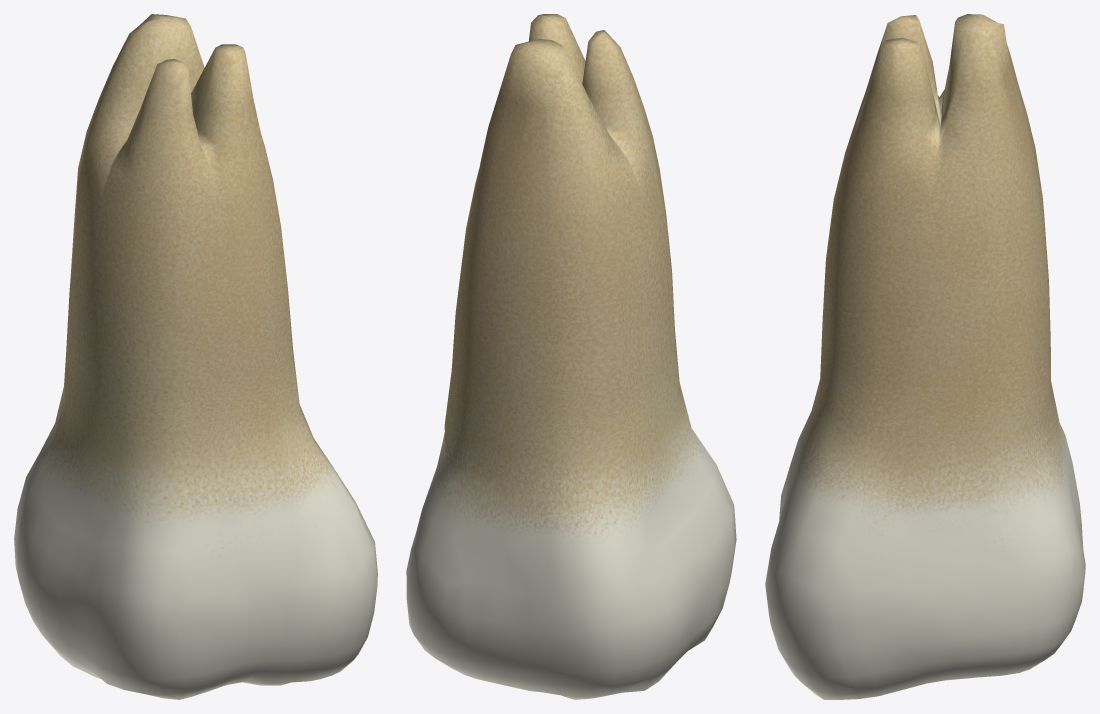
File: Human Teeth Upper Third Molar Wisdom.gltf
The picture shows the model from 3 angles, left to right: view 1: azimuth 30°, elevation 25°; view 2: azimuth 150°, elevation 25°; view 3: azimuth 270°, elevation 25°; orthographic projection.
Visible parts, largest first — view 1: Human_Teeth_Upper_Third_Molar_Wisdom_Geo; view 2: Human_Teeth_Upper_Third_Molar_Wisdom_Geo; view 3: Human_Teeth_Upper_Third_Molar_Wisdom_Geo.
Part boxes in pixels (x1=…): Human_Teeth_Upper_Third_Molar_Wisdom_Geo: x1=14, y1=14, x2=377, y2=699; Human_Teeth_Upper_Third_Molar_Wisdom_Geo: x1=406, y1=14, x2=736, y2=699; Human_Teeth_Upper_Third_Molar_Wisdom_Geo: x1=765, y1=14, x2=1085, y2=699.
Size of the model in its own units: 1.96 by 4.36 by 2.
1 material, 1 textured.
